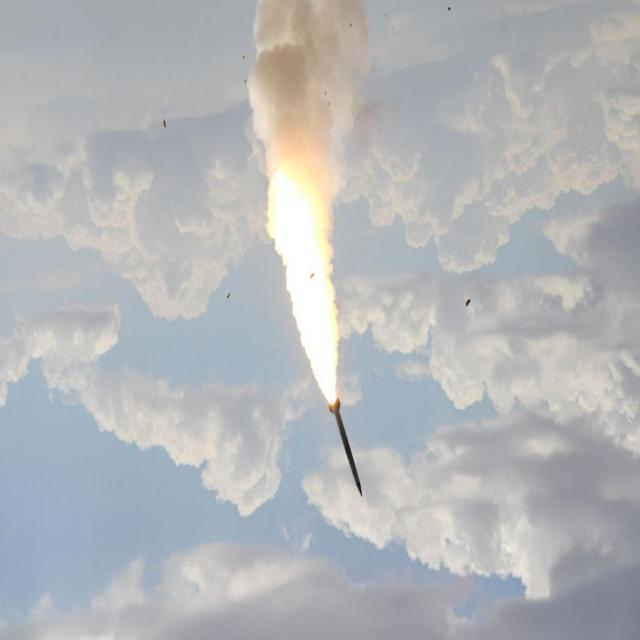missile: (322, 399, 369, 501)
